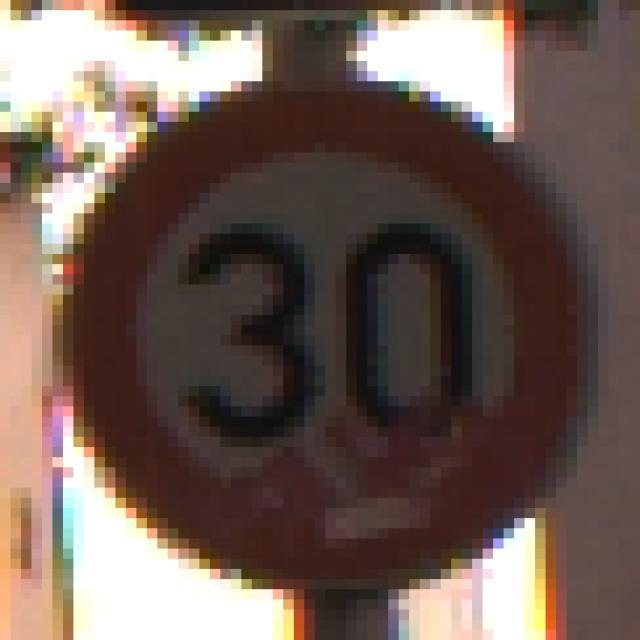Speed Limit -30-: (52, 56, 566, 584)
